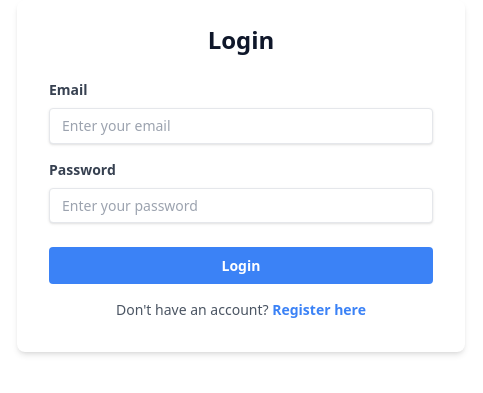
Test: LoginForm › should show validation error for password less than 8 characters
Type "test@example.com" into the field labelled "Email" at (241, 126), box [49,108,433,144]
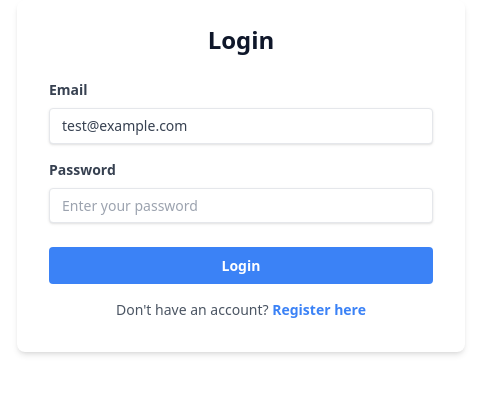
Type "short" into the password field labelled "Password" at (241, 205), box [49,188,433,223]
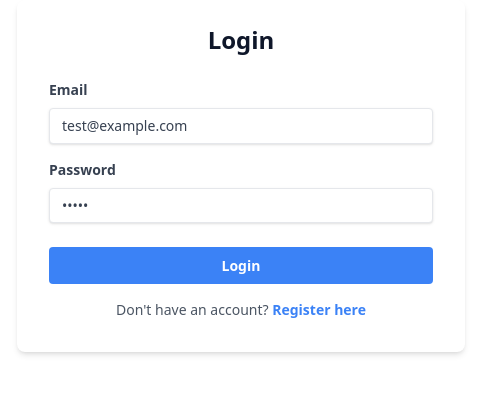
Click the button "Login" at (241, 266), box [49,247,433,284]
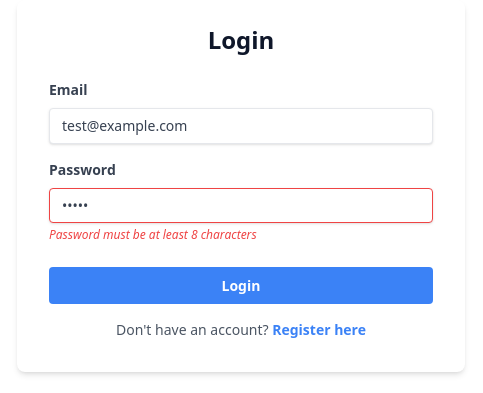
Result: the text "Password must be at least 8 characters" is shown at [49,226,257,243]
